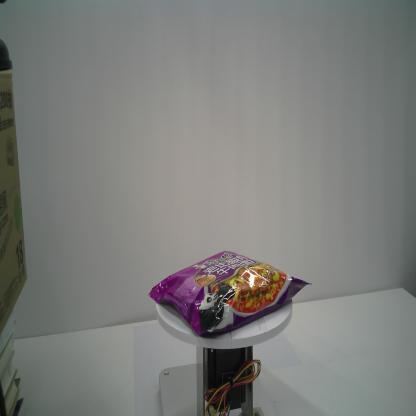Instant Noodles: (147, 250, 314, 340)
